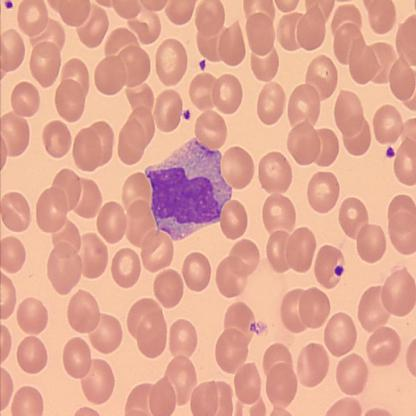Monocyte: (139, 135, 236, 244)
